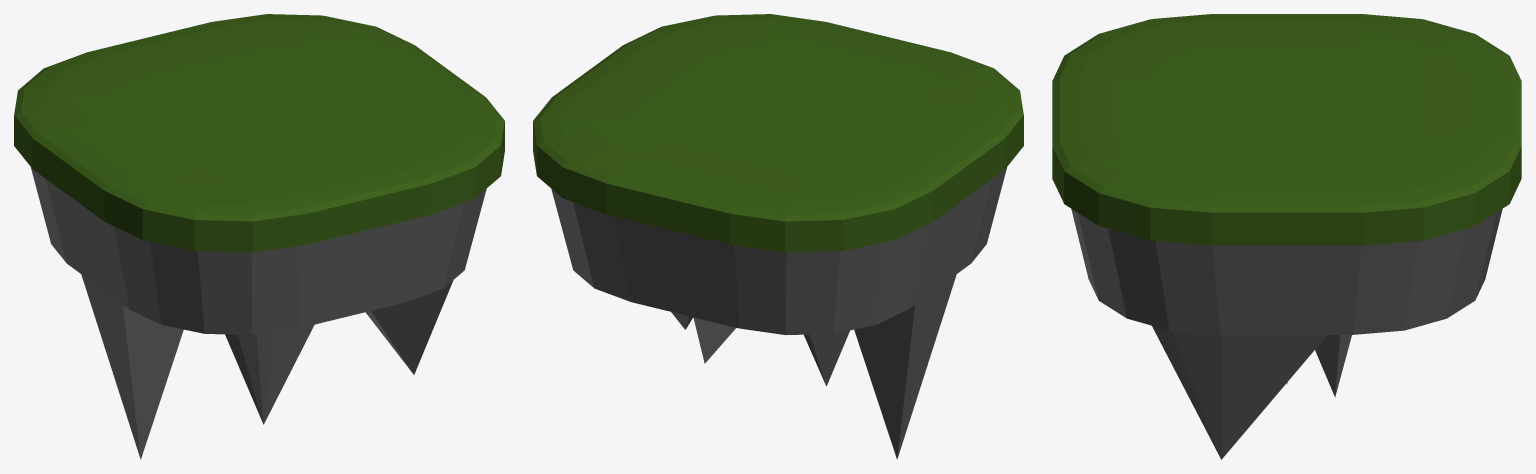
The model's file is PlataformaCielo.fbx.
The picture shows the model from 3 angles, left to right: view 1: azimuth 30°, elevation 25°; view 2: azimuth 150°, elevation 25°; view 3: azimuth 270°, elevation 25°; orthographic projection. The views are drawn at different scales.
Parts seen in each view (by area): view 1: Cube; view 2: Cube; view 3: Cube.
Part boxes in pixels (<box>): Cube: <box>14,14,504,459</box>; Cube: <box>533,14,1023,459</box>; Cube: <box>1052,14,1521,459</box>.
Size of the model in its own units: 2000 by 1608 by 2000.
1 material, 1 textured.
